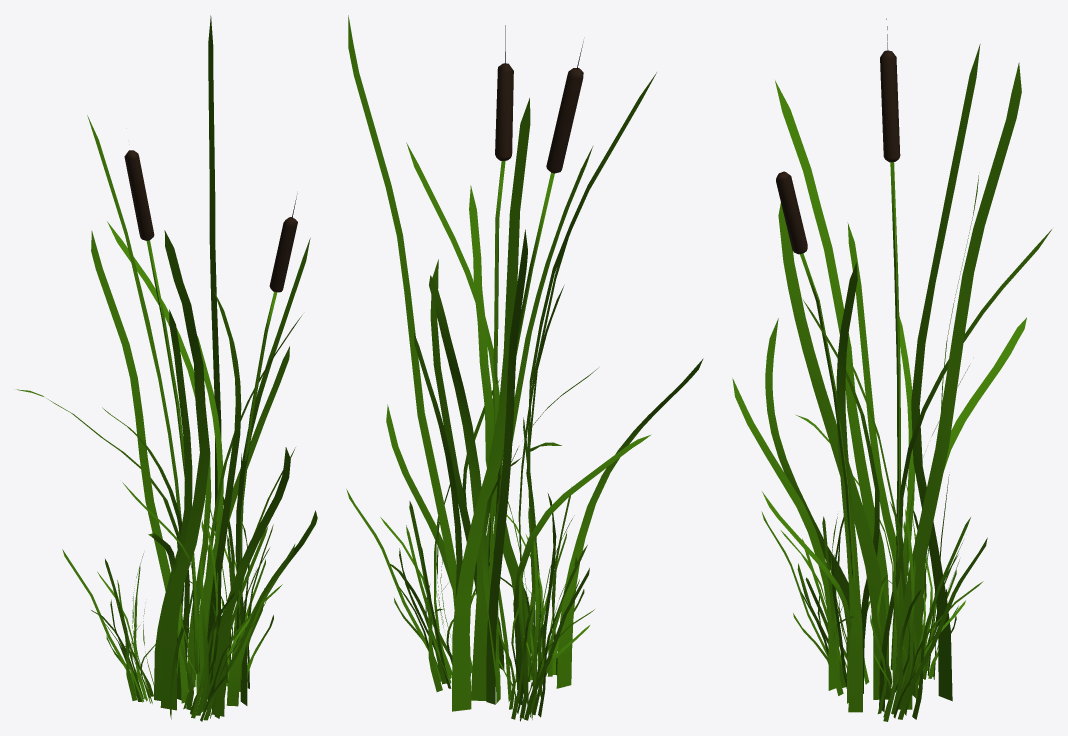
Rendered from realcattail.glb.
The picture shows the model from 3 angles, left to right: view 1: azimuth 30°, elevation 25°; view 2: azimuth 150°, elevation 25°; view 3: azimuth 270°, elevation 25°; orthographic projection. The views are drawn at different scales.
Parts seen in each view (by area): view 1: Object_4; view 2: Object_4; view 3: Object_4.
Boxes of the visible parts, box(x1,y1,x2,y2) form: Object_4: box(16, 15, 317, 721); Object_4: box(346, 15, 703, 721); Object_4: box(732, 18, 1051, 721).
Size of the model in its own units: 0.6065 by 1.6 by 0.689.
1 material, 1 textured.
